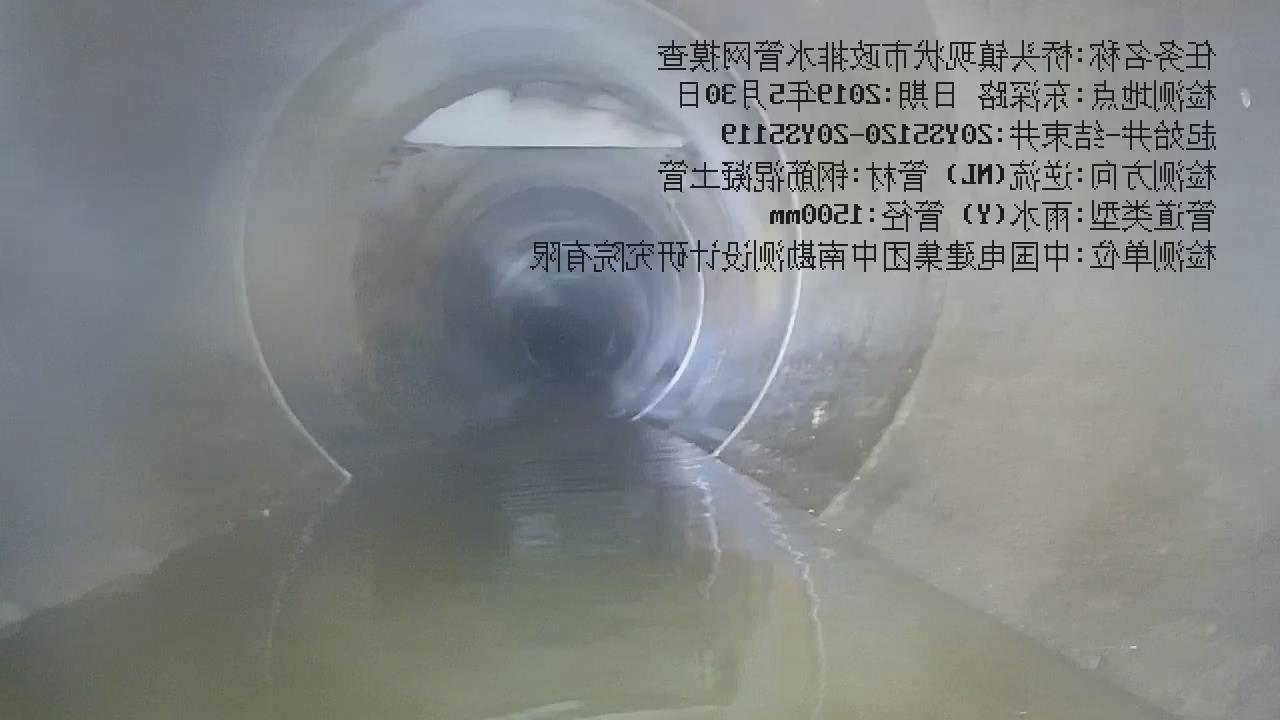YWCR: (405, 80, 684, 148)
